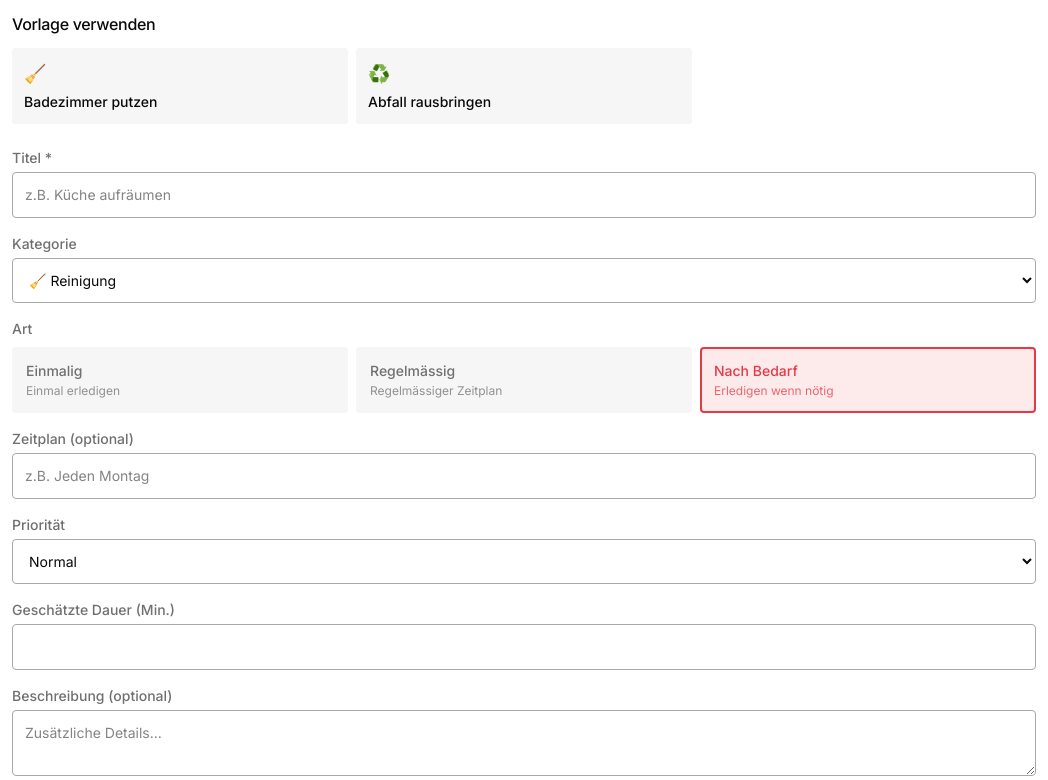
Test case: CreateChoreForm › fills in estimatedMinutes when a template is applied
Click the button "🧹 Badezimmer putzen".
click(91, 102)  # box left=12, top=48, right=348, bottom=124
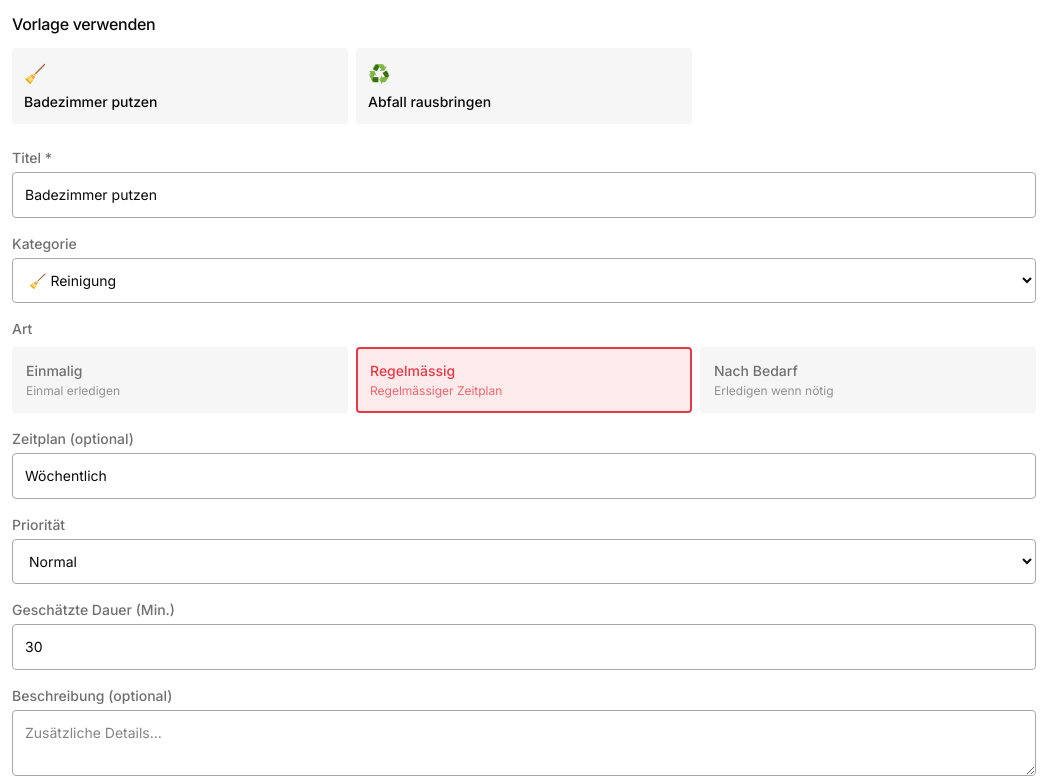
Expected: the number field labelled "Geschätzte Dauer (Min.)" holds "30", left=12, top=624, right=1036, bottom=670
